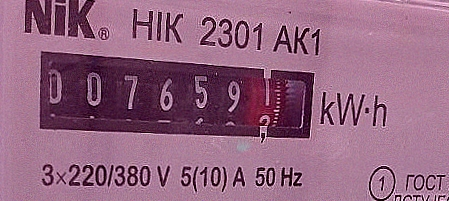0: (80, 67, 105, 109), (41, 65, 65, 106)
1: (258, 76, 275, 110)
5: (189, 72, 210, 111)
6: (155, 74, 176, 113)
7: (119, 72, 139, 112)
9: (224, 78, 241, 115)
screen: (28, 38, 323, 161)
